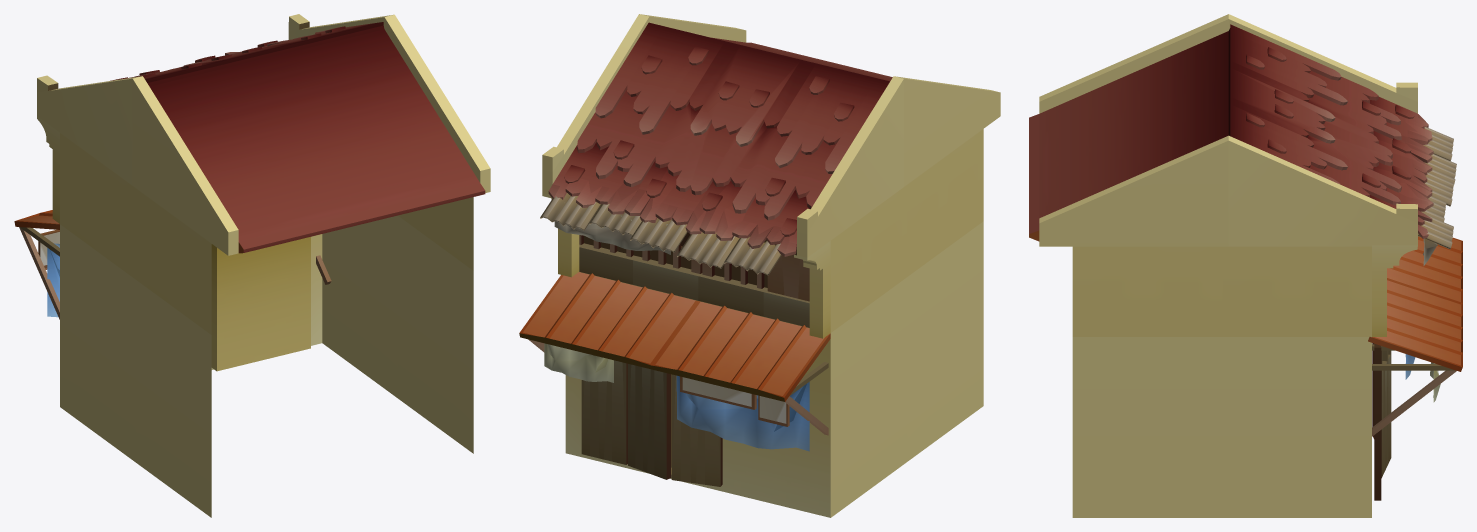
File: SM_Facade_OldQuarter_Double_02.fbx
3 renders of one model, left to right at view 1: azimuth 30°, elevation 25°; view 2: azimuth 150°, elevation 25°; view 3: azimuth 270°, elevation 25°, orthographic. The views are drawn at different scales.
Parts seen in each view (by area): view 1: SM_Facade_OldQuarter_Double_02; view 2: SM_Facade_OldQuarter_Double_02; view 3: SM_Facade_OldQuarter_Double_02.
Part boxes in pixels (x1=…): SM_Facade_OldQuarter_Double_02: x1=14, y1=14, x2=490, y2=517; SM_Facade_OldQuarter_Double_02: x1=519, y1=14, x2=1000, y2=517; SM_Facade_OldQuarter_Double_02: x1=1029, y1=14, x2=1462, y2=517.
Size of the model in its own units: 600 by 835 by 869.
